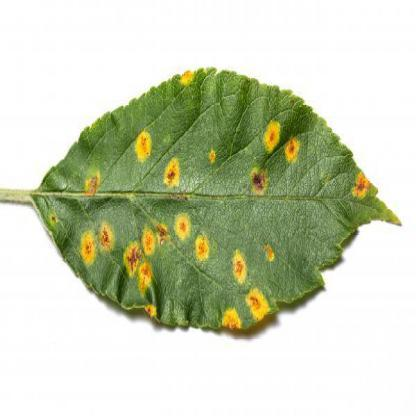Apple rust leaf: (28, 48, 416, 350)
